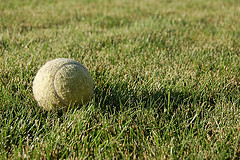tennis ball: (32, 57, 98, 113)
